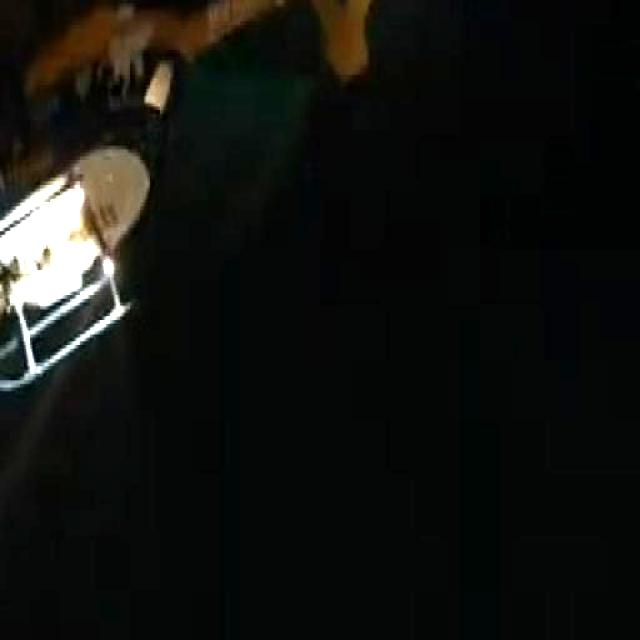drone: (0, 0, 404, 395)
